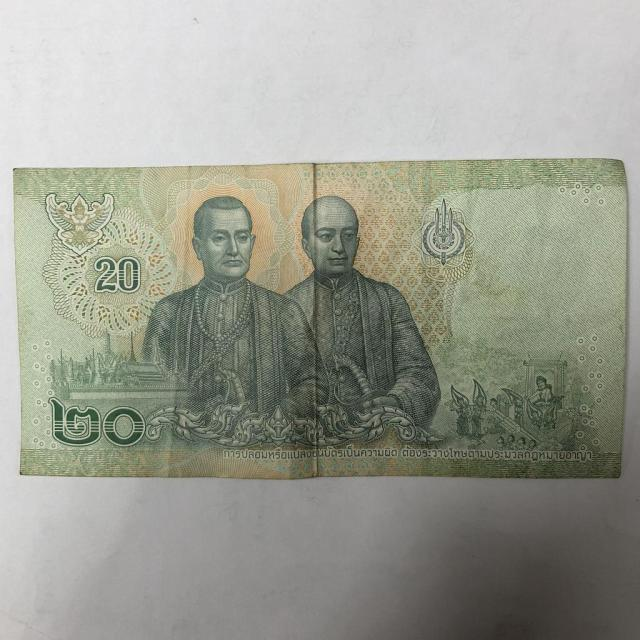THAI20: (14, 159, 627, 479)
